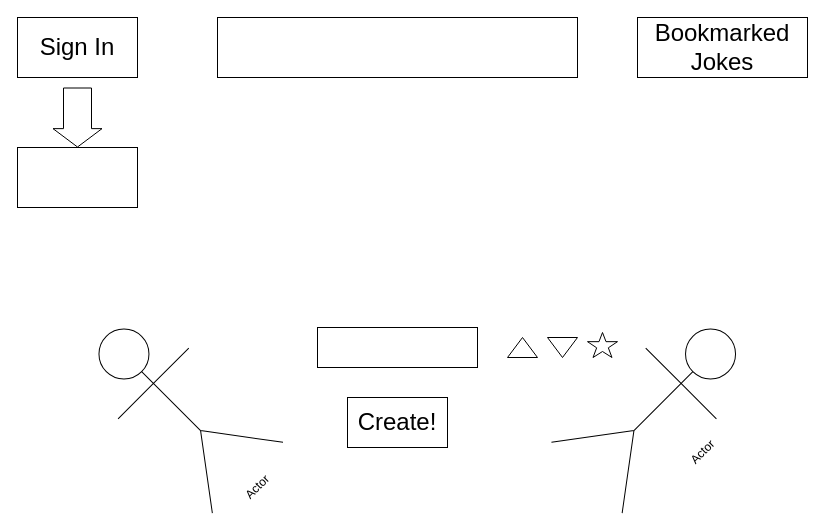
This 825x531 diagram has some shape labels left out. The shapes that lost their labels are listed below. From the top down, each one's box as (x1, y1, x2, y2) in pixels, then its label:
(216, 16, 578, 78): Dad Jokes!
(16, 146, 138, 208): My Jokes
(316, 326, 478, 368): Generate!
